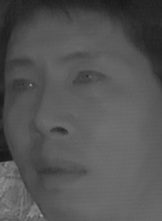eye: (71, 65, 108, 90), (8, 74, 40, 95)
mouth: (27, 151, 88, 189)
